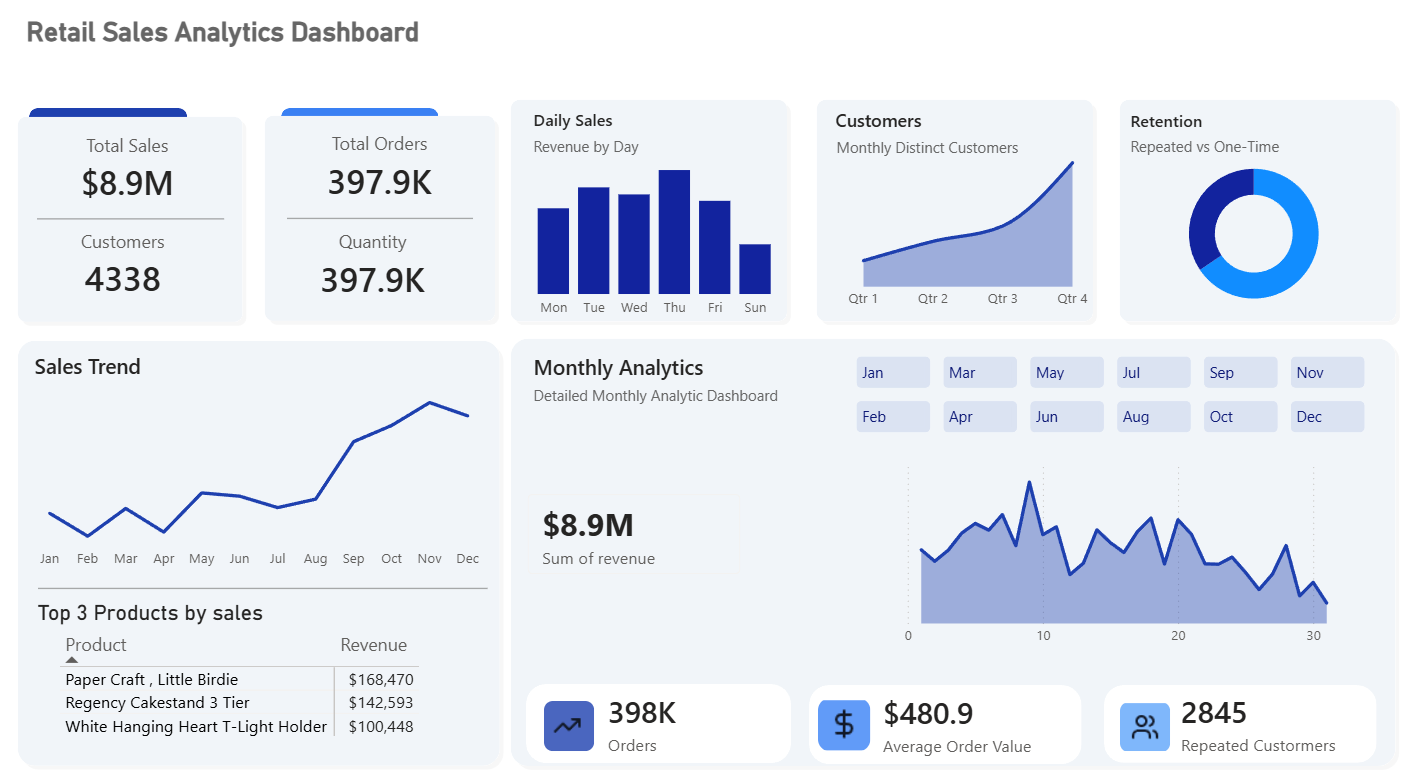

Layout of this report page (visuals, bound fields, positions):
{"tool":"powerbi","page":{"name":"Page 2","canvas":[1280,720],"ordinal":1},"visuals":[{"type":"shape","box":[260.3,109,141.5,114.9],"z":0},{"type":"shape","box":[33.8,108.3,142.1,115],"z":1000},{"type":"shape","box":[19,110.9,212.2,194.5],"z":2000,"group":"g1"},{"type":"group","id":"g1","title":"Group 1","box":[19,96.1,1247.6,608.1],"z":2000},{"type":"shape","box":[462,96.1,258.4,209.2],"z":3000,"group":"g1"},{"type":"shape","box":[41.7,74.4,168,267.3],"z":3000},{"type":"shape","box":[735.8,96.3,258.4,209.2],"z":4000},{"type":"shape","box":[19,312.2,443,392],"z":4000,"group":"g1"},{"type":"shape","box":[1007.9,96.3,258.4,209.2],"z":5000},{"type":"shape","box":[462,310.3,804.5,393.9],"z":5000,"group":"g1"},{"type":"cardVisual","fields":{"Data":["Sum(public retail_cleaned.revenue)"]},"box":[20,84.9,205.8,154.9],"z":6000},{"type":"cardVisual","fields":{"Data":["Count(public retail_cleaned.customerid)"]},"box":[5.9,200.4,225,98.2],"z":7000},{"type":"shape","box":[241,110.8,217.1,194.5],"z":8000,"group":"g1"},{"type":"cardVisual","fields":{"Data":["CountNonNull(public retail_cleaned.quantity)"]},"box":[240.8,171.9,204.8,155.9],"z":8000},{"type":"shape","box":[734.2,627,244.7,71],"z":9000},{"type":"shape","box":[999.2,627,244.7,69.9],"z":10000},{"type":"shape","box":[265.5,74.9,167.3,266.5],"z":11000},{"type":"cardVisual","fields":{"Data":["CountNonNull(public retail_cleaned.invoiceno)"]},"box":[246.8,83.9,204.8,155.9],"z":12000},{"type":"areaChart","title":"Customers","fields":{"Y":["Count(public retail_cleaned.customerid)"],"Category":["public retail_cleaned.invoicedate.Variation.Date Hierarchy.Quarter"]},"box":[753.2,108.6,247.8,189.4],"z":13000},{"type":"lineChart","title":"Sales Trend","fields":{"Y":["Sum(public retail_cleaned.revenue)"],"Category":["public retail_cleaned.Month Short"]},"box":[34,327.8,412.4,203.3],"z":14000},{"type":"pivotTable","fields":{"Rows":["public retail_cleaned.description"],"Values":["Sum(public retail_cleaned.revenue)"]},"box":[57,573.6,342.7,134.9],"z":15000},{"type":"shape","box":[41.8,406.6,403.6,266.5],"z":16000},{"type":"textbox","box":[37,544.7,218.8,39.9],"z":17000},{"type":"textbox","box":[753.8,130.3,221.8,33.1],"z":18000},{"type":"donutChart","title":"Repeated Customer","fields":{"Category":["public retail_cleaned.Customer Type"],"Y":["Count(public retail_cleaned.customerid)"]},"box":[1018.4,143.2,231.2,155.6],"z":19000},{"type":"textbox","box":[1018.4,129.7,203,36.1],"z":20000},{"type":"textbox","box":[1018.4,104.9,138.7,31.6],"z":21000},{"type":"clusteredColumnChart","fields":{"Category":["public retail_cleaned.Day Name"],"Y":["Sum(public retail_cleaned.revenue)"]},"box":[471.7,148.8,249,156.6],"z":22000},{"type":"textbox","box":[482.4,104.1,108.9,31.1],"z":23000},{"type":"textbox","box":[482.4,129.4,141,36],"z":24000},{"type":"advancedSlicerVisual","fields":{"Values":["public retail_cleaned.Month Short"]},"box":[772.5,327,471.4,78.9],"z":25000},{"type":"cardVisual","fields":{"Data":["Date Table.repeat customers"]},"box":[1024.2,605,255.8,111.9],"z":26000},{"type":"textbox","box":[482.4,322.9,177,37.9],"z":27000},{"type":"textbox","box":[482.4,353.1,249,35],"z":28000},{"type":"cardVisual","fields":{"Data":["public retail_cleaned.AOV"]},"box":[756.7,611.2,256,99.2],"z":29000},{"type":"cardVisual","fields":{"Data":["CountNonNull(public retail_cleaned.invoiceno)"]},"box":[509.7,613.5,256,97],"z":30000},{"type":"cardVisual","fields":{"Data":["Sum(public retail_cleaned.revenue)"]},"box":[449.6,437.7,240.8,106.9],"z":31000},{"type":"image","box":[1013.9,641.7,45.1,45.1],"z":32000},{"type":"shape","box":[480.3,626.1,238,71],"z":32001,"group":"g1"},{"type":"image","box":[742.1,638.3,47.4,48.5],"z":33000},{"type":"image","box":[496.2,640.6,45.1,45.1],"z":34000},{"type":"areaChart","title":"Sales Trend","fields":{"Category":["public retail_cleaned.invoicedate.Variation.Date Hierarchy.Day"],"Y":["Sum(public retail_cleaned.revenue)"]},"box":[808.4,416.7,454.6,183.9],"z":35000},{"type":"textbox","box":[26.9,21.5,401.3,39.5],"z":35001}]}

Visuals, with their boxes in screenshot pixels (x1, y1, x2, y2), scaled from the page's 1280x720 canvas onto the 1412x780 screenshot:
shape: rect(287, 118, 443, 243)
shape: rect(37, 117, 194, 242)
shape: rect(21, 120, 255, 331)
"Group 1" group: rect(21, 104, 1397, 763)
shape: rect(510, 104, 795, 331)
shape: rect(46, 81, 231, 370)
shape: rect(812, 104, 1097, 331)
shape: rect(21, 338, 510, 763)
shape: rect(1112, 104, 1397, 331)
shape: rect(510, 336, 1397, 763)
cardVisual - Sum(public retail_cleaned.revenue): rect(22, 92, 249, 260)
cardVisual - Count(public retail_cleaned.customerid): rect(7, 217, 255, 323)
shape: rect(266, 120, 505, 331)
cardVisual - CountNonNull(public retail_cleaned.quantity): rect(266, 186, 492, 355)
shape: rect(810, 679, 1080, 756)
shape: rect(1102, 679, 1372, 755)
shape: rect(293, 81, 477, 370)
cardVisual - CountNonNull(public retail_cleaned.invoiceno): rect(272, 91, 498, 260)
"Customers" areaChart: rect(831, 118, 1104, 323)
"Sales Trend" lineChart: rect(38, 355, 492, 575)
pivotTable - public retail_cleaned.description x Sum(public retail_cleaned.revenue): rect(63, 621, 441, 768)
shape: rect(46, 440, 491, 729)
textbox: rect(41, 590, 282, 633)
textbox: rect(832, 141, 1076, 177)
"Repeated Customer" donutChart: rect(1123, 155, 1378, 324)
textbox: rect(1123, 141, 1347, 180)
textbox: rect(1123, 114, 1276, 148)
clusteredColumnChart - public retail_cleaned.Day Name x Sum(public retail_cleaned.revenue): rect(520, 161, 795, 331)
textbox: rect(532, 113, 652, 146)
textbox: rect(532, 140, 688, 179)
advancedSlicerVisual - public retail_cleaned.Month Short: rect(852, 354, 1372, 440)
cardVisual - Date Table.repeat customers: rect(1130, 655, 1411, 777)
textbox: rect(532, 350, 727, 391)
textbox: rect(532, 383, 807, 420)
cardVisual - public retail_cleaned.AOV: rect(835, 662, 1117, 770)
cardVisual - CountNonNull(public retail_cleaned.invoiceno): rect(562, 665, 845, 770)
cardVisual - Sum(public retail_cleaned.revenue): rect(496, 474, 762, 590)
image: rect(1118, 695, 1168, 744)
shape: rect(530, 678, 792, 755)
image: rect(819, 691, 871, 744)
image: rect(547, 694, 597, 743)
"Sales Trend" areaChart: rect(892, 451, 1393, 651)
textbox: rect(30, 23, 472, 66)
